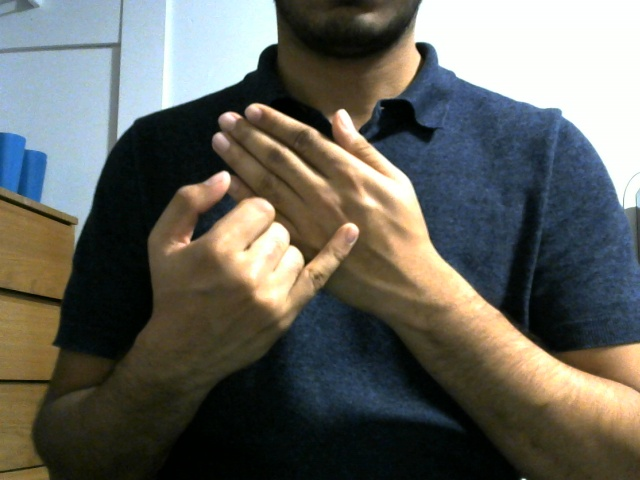Project: (136, 104, 453, 352)
